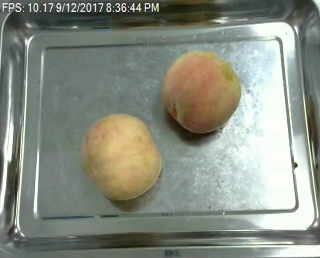Peach: (82, 112, 161, 201), (162, 49, 241, 134)
